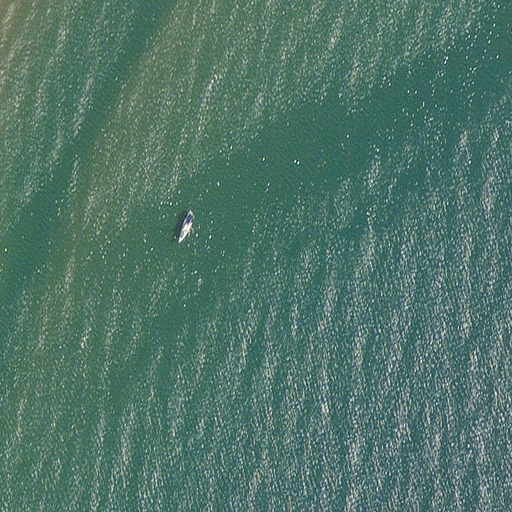ship: (178, 211, 196, 247)
